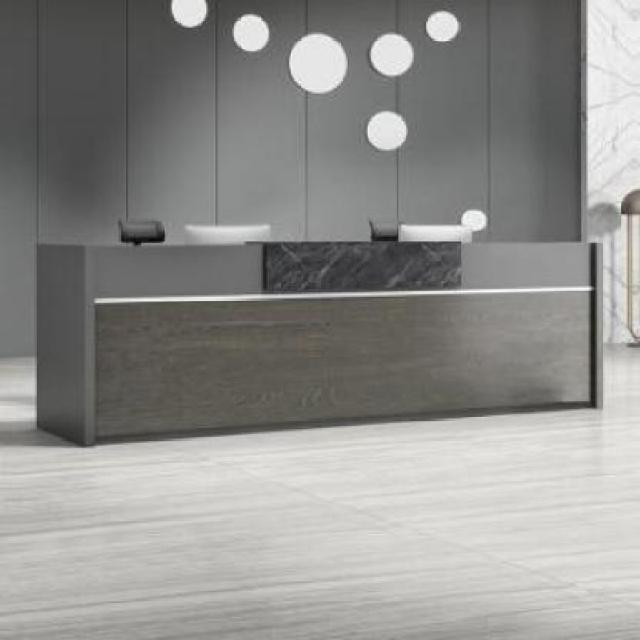frontdesk: (28, 218, 614, 452)
